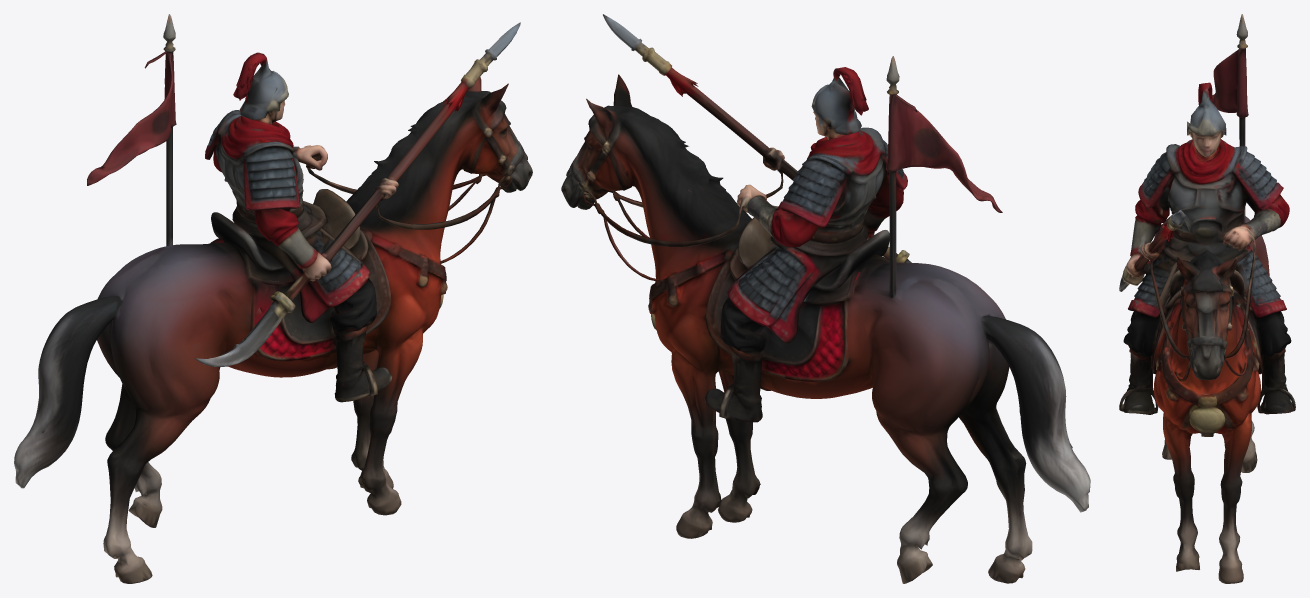
File: horse-red-hy3-v1.glb
The picture shows the model from 3 angles, left to right: view 1: azimuth 30°, elevation 25°; view 2: azimuth 150°, elevation 25°; view 3: azimuth 270°, elevation 25°; orthographic projection. The views are drawn at different scales.
Parts seen in each view (by area): view 1: node_0; view 2: node_0; view 3: node_0.
Boxes of the visible parts, x1,y1,x2,y2 form: node_0: [14, 14, 532, 583]; node_0: [561, 14, 1090, 583]; node_0: [1119, 14, 1295, 583].
Size of the model in its own units: 1.49 by 1.45 by 0.4888.
1 material, 1 textured.
